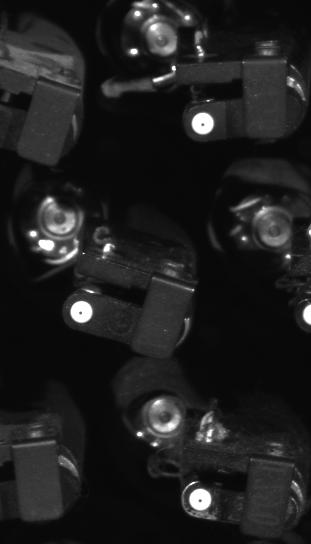fiber: (64, 296, 102, 329), (187, 106, 219, 140), (186, 484, 218, 517)
